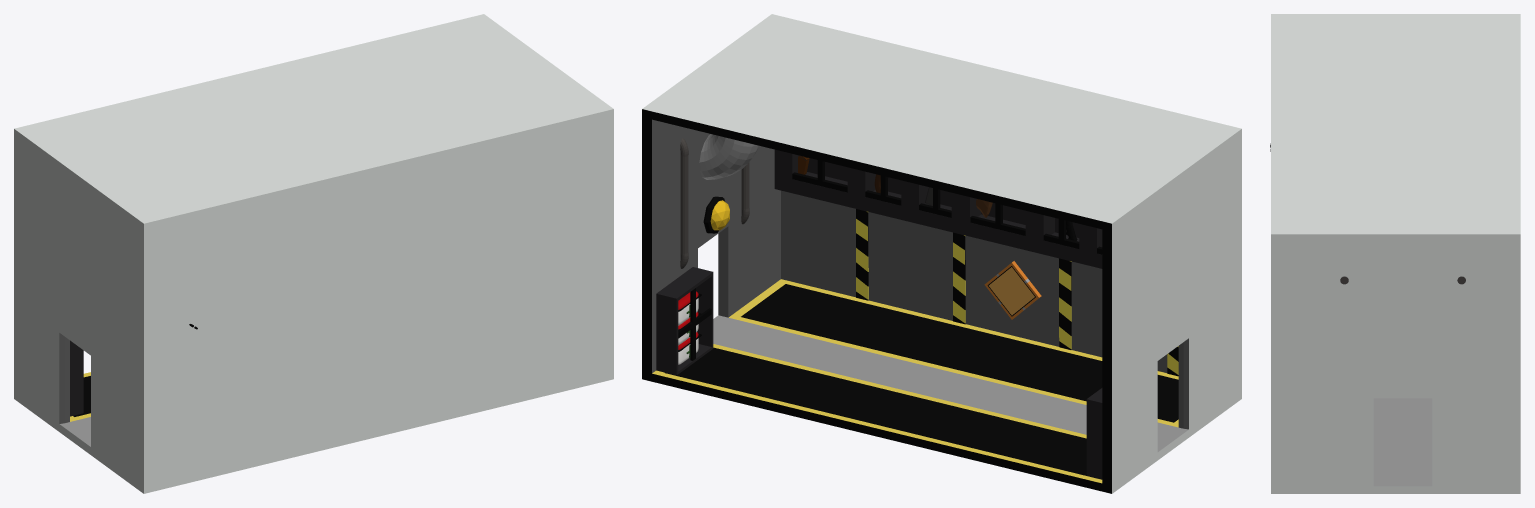
The model's file is ArmRoom.fbx.
3 renders of one model, left to right at view 1: azimuth 30°, elevation 25°; view 2: azimuth 150°, elevation 25°; view 3: azimuth 270°, elevation 25°, orthographic. The views are drawn at different scales.
Visible parts, largest first — view 1: ArmRoom; view 2: ArmRoom; view 3: ArmRoom.
Boxes of the visible parts, x1,y1,x2,y2 form: ArmRoom: [14, 14, 613, 493]; ArmRoom: [642, 14, 1241, 493]; ArmRoom: [1270, 14, 1520, 493].
Size of the model in its own units: 1807 by 993 by 866.
